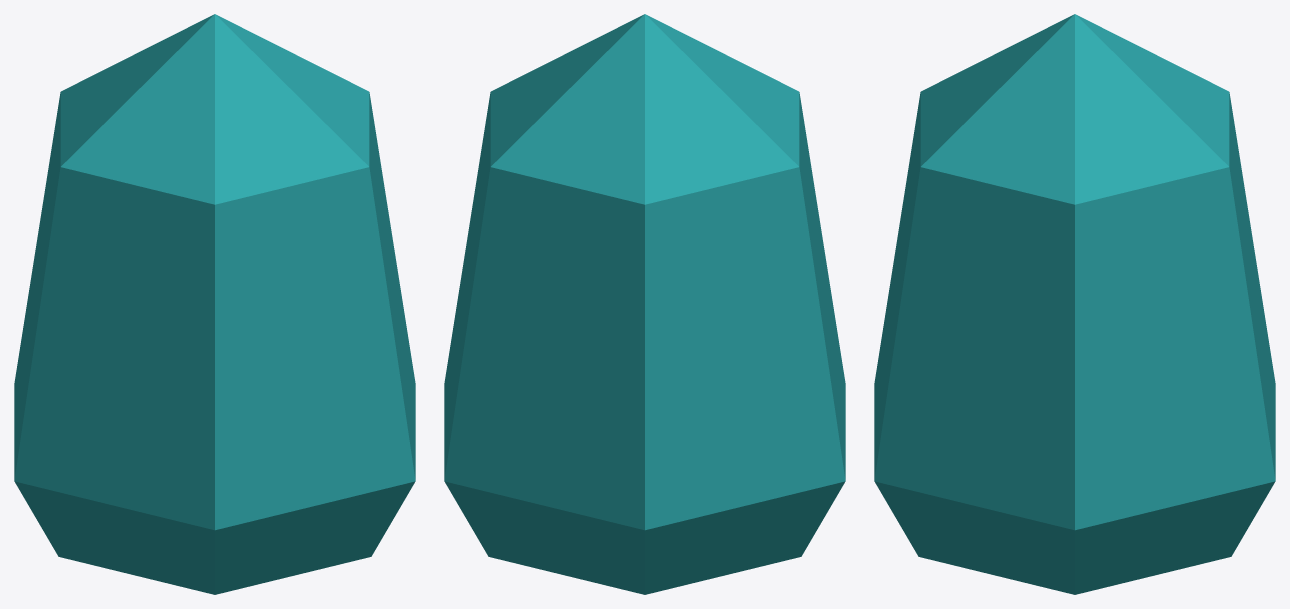
File: tree_dark_top.obj
3 renders of one model, left to right at view 1: azimuth 30°, elevation 25°; view 2: azimuth 150°, elevation 25°; view 3: azimuth 270°, elevation 25°, orthographic.
Visible parts, largest first — view 1: tree_fat_darkh.001; view 2: tree_fat_darkh.001; view 3: tree_fat_darkh.001.
Boxes of the visible parts, x1,y1,x2,y2 form: tree_fat_darkh.001: [14, 14, 415, 594]; tree_fat_darkh.001: [444, 14, 845, 594]; tree_fat_darkh.001: [874, 14, 1275, 594].
Bounding box in the file's own units: 0.755 × 0.9075 × 0.6538.
